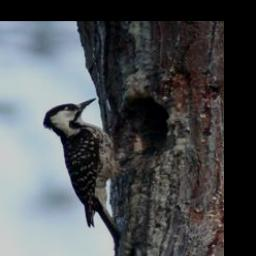Woodpecker: (40, 95, 153, 243)
